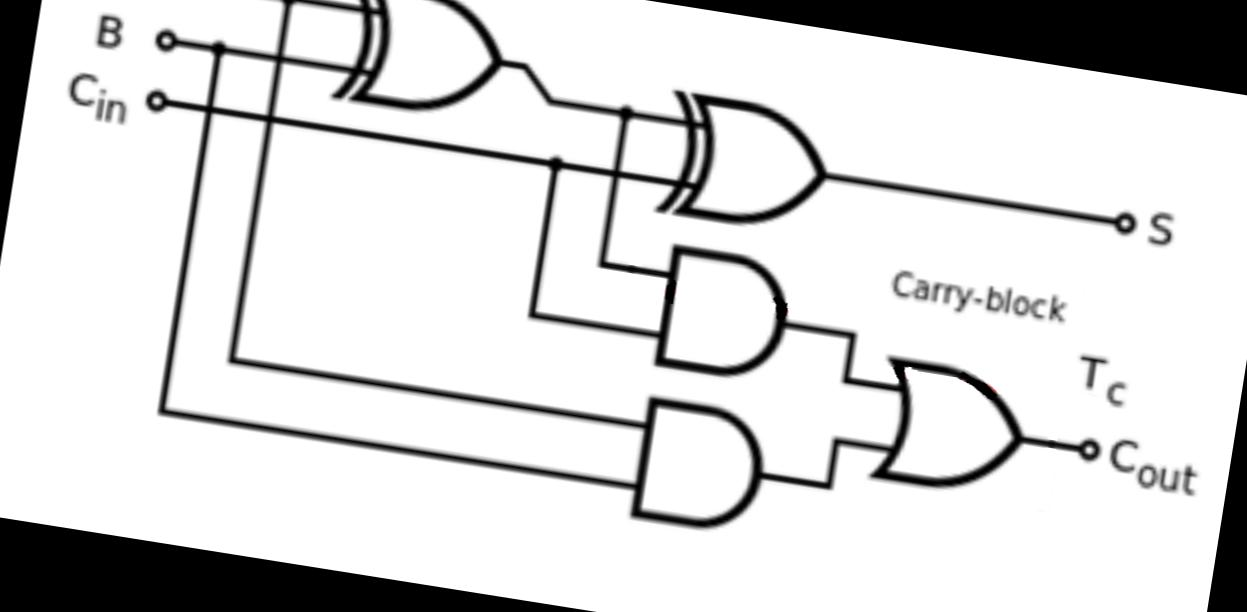and: (613, 379, 781, 554), (640, 231, 805, 394)
or: (859, 338, 1040, 522)
xor: (651, 73, 850, 246), (319, 0, 516, 134)
